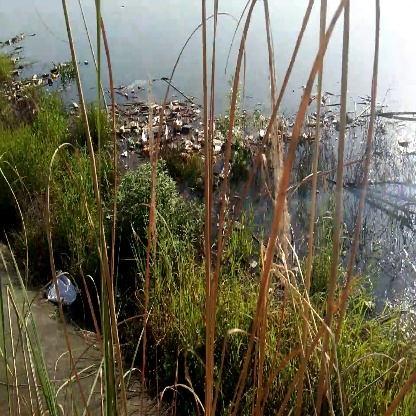plastic-bag: (45, 271, 83, 306)
